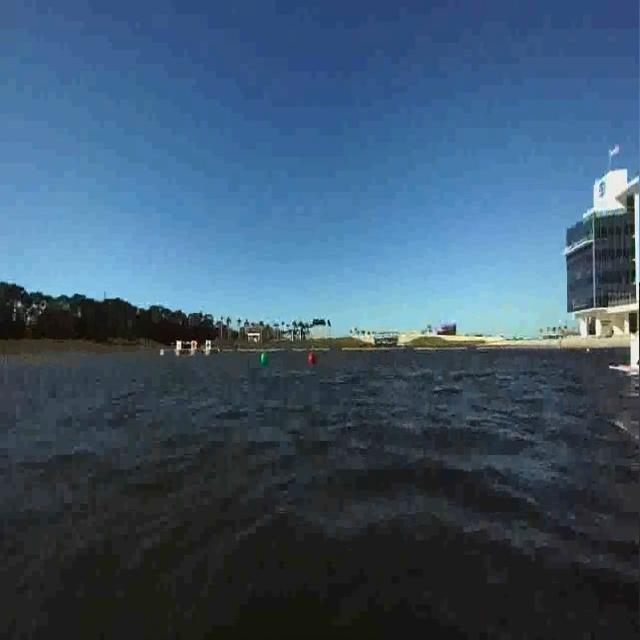green-buoy: (262, 352, 270, 368)
red-buoy: (308, 352, 314, 366)
